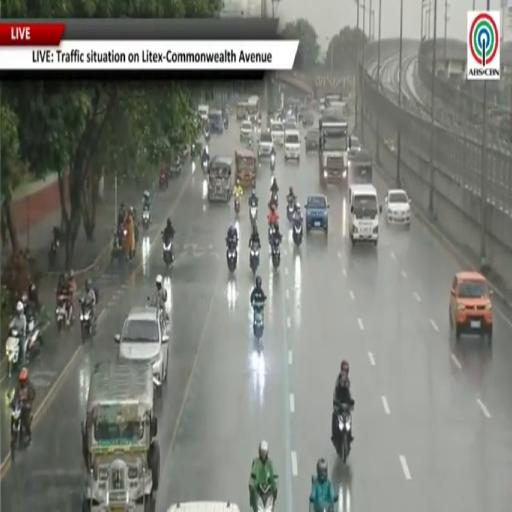car: (115, 306, 169, 388), (450, 271, 492, 344), (385, 189, 411, 227), (305, 195, 329, 233), (168, 502, 239, 511), (284, 130, 300, 162), (258, 133, 273, 158), (271, 120, 284, 145), (305, 130, 319, 153), (240, 120, 253, 140), (301, 111, 314, 126), (349, 136, 362, 150), (285, 121, 297, 133)
jeepney: (82, 360, 160, 511), (208, 156, 233, 202), (348, 149, 372, 185), (236, 149, 257, 187), (209, 109, 223, 134), (236, 102, 248, 121)
motorcycle: (333, 405, 351, 463), (23, 308, 41, 363), (11, 403, 26, 460), (6, 328, 21, 378), (80, 298, 92, 343), (254, 484, 273, 511), (253, 302, 264, 341), (56, 297, 67, 332), (310, 498, 338, 511), (111, 232, 123, 261), (48, 239, 59, 269), (168, 157, 182, 178), (292, 218, 302, 247), (163, 239, 173, 267), (227, 245, 237, 273), (250, 244, 259, 274), (271, 239, 280, 268), (191, 141, 203, 159), (287, 198, 295, 221), (159, 171, 168, 189), (268, 224, 275, 247), (143, 208, 150, 230), (250, 205, 257, 226), (270, 191, 278, 209), (202, 158, 210, 174), (234, 196, 240, 216), (191, 143, 197, 159), (270, 153, 275, 171), (204, 128, 210, 141), (224, 117, 229, 130)
truck: (319, 108, 348, 184)
